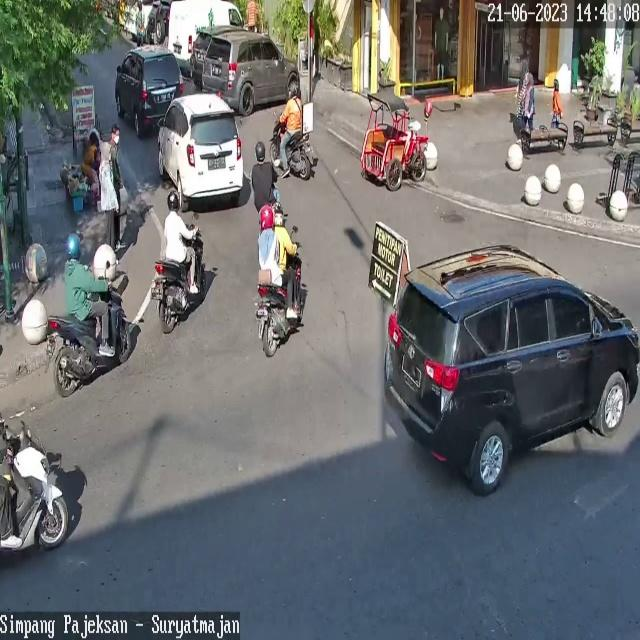bus: (44, 276, 133, 396), (0, 420, 70, 550), (150, 224, 204, 334), (256, 241, 302, 356), (269, 112, 315, 178)
motorcycle: (383, 244, 640, 497), (157, 93, 244, 211), (202, 31, 300, 116), (115, 44, 183, 134), (166, 0, 244, 67), (191, 28, 213, 81), (123, 0, 152, 36)
